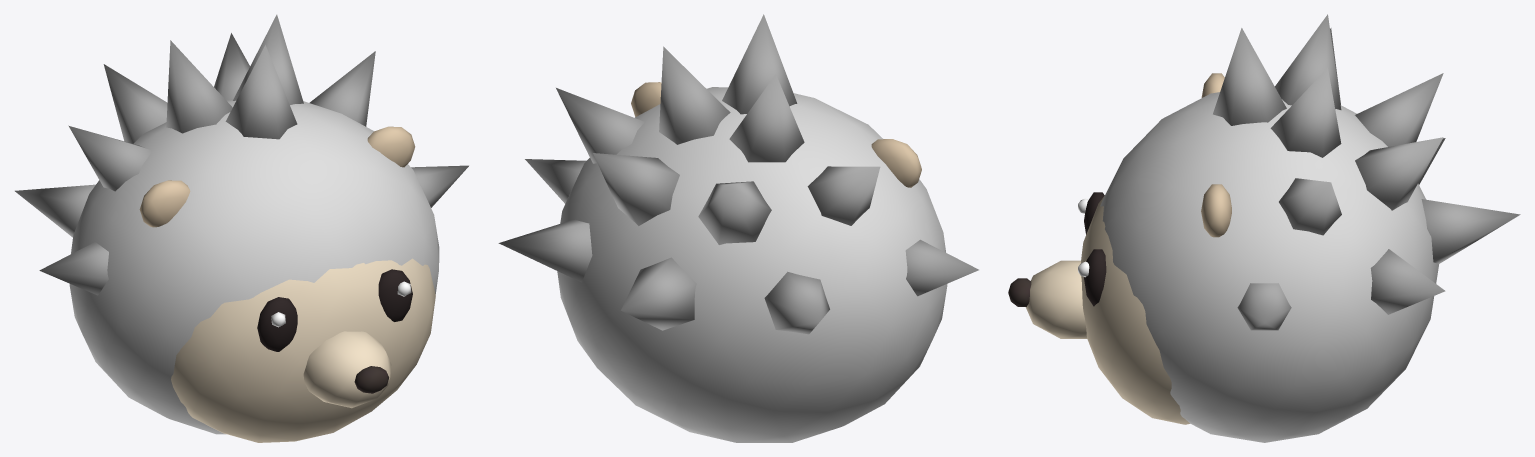
File: animal.hedgehog.glb
3 renders of one model, left to right at view 1: azimuth 30°, elevation 25°; view 2: azimuth 150°, elevation 25°; view 3: azimuth 270°, elevation 25°, orthographic. The views are drawn at different scales.
Visible parts, largest first — view 1: head; view 2: head; view 3: head.
Part boxes in pixels (box(x1,y1,x2,y2)): head: box(15, 14, 468, 442); head: box(498, 14, 978, 442); head: box(1008, 14, 1520, 442).
Size of the model in its own units: 0.6456 by 0.5487 by 0.6458.
